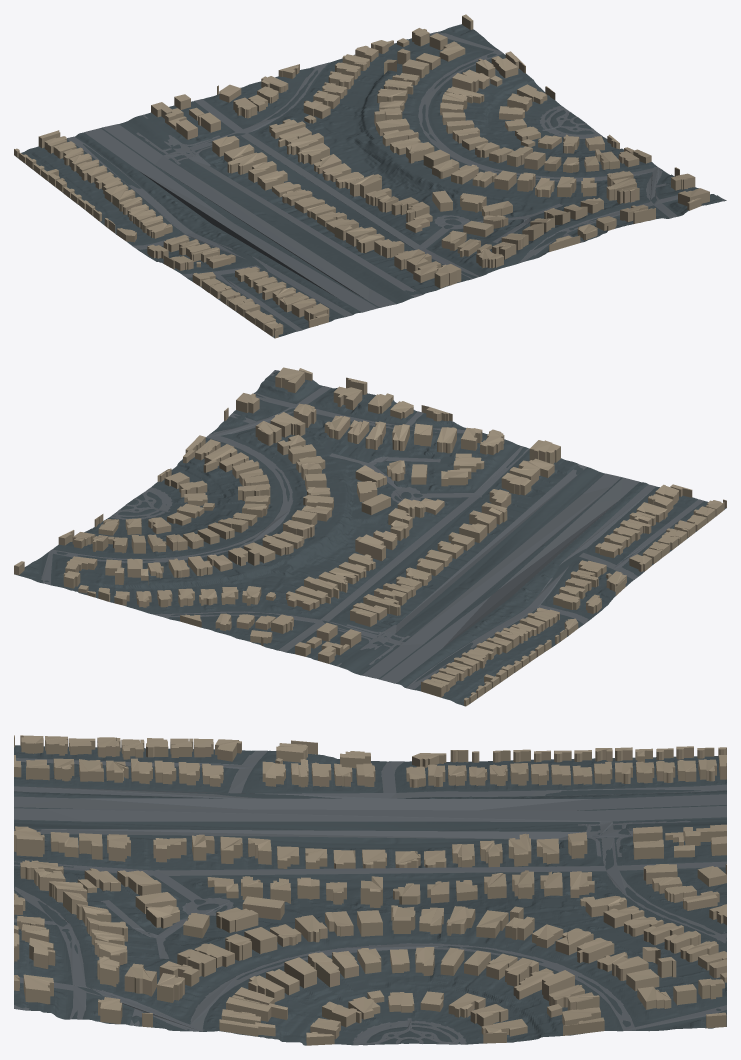
The model's file is epsg26910-1423-10873.lod0.glb.
3 renders of one model, top to bottom at view 1: azimuth 30°, elevation 25°; view 2: azimuth 150°, elevation 25°; view 3: azimuth 270°, elevation 25°, orthographic. The views are drawn at different scales.
Visible parts, largest first — view 1: epsg26910-1423-10873-lod0; view 2: epsg26910-1423-10873-lod0; view 3: epsg26910-1423-10873-lod0.
Boxes of the visible parts, x1=… form: epsg26910-1423-10873-lod0: x1=14, y1=14, x2=726, y2=338; epsg26910-1423-10873-lod0: x1=14, y1=367, x2=726, y2=706; epsg26910-1423-10873-lod0: x1=14, y1=735, x2=726, y2=1045.
Size of the model in its own units: 384 by 40.81 by 384.
